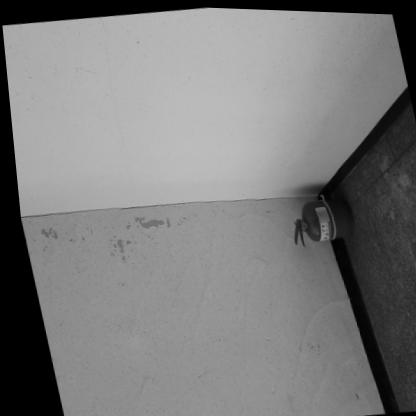FE: (281, 193, 353, 246)
